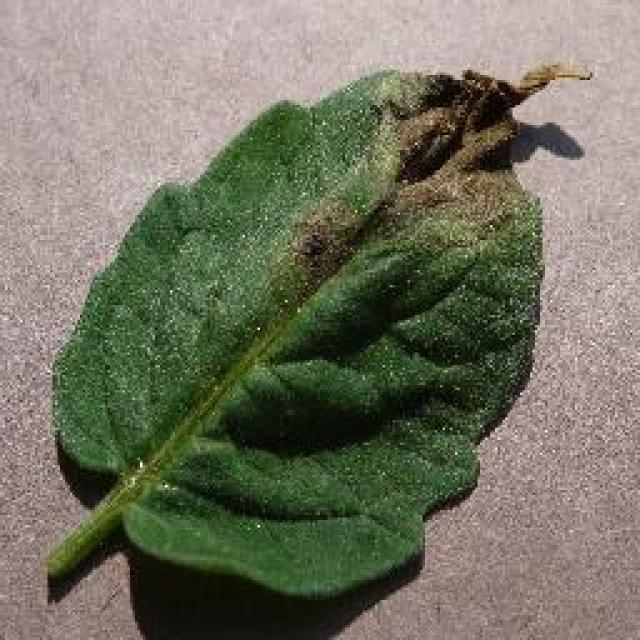Tomato Late Blight: (308, 23, 585, 280)
